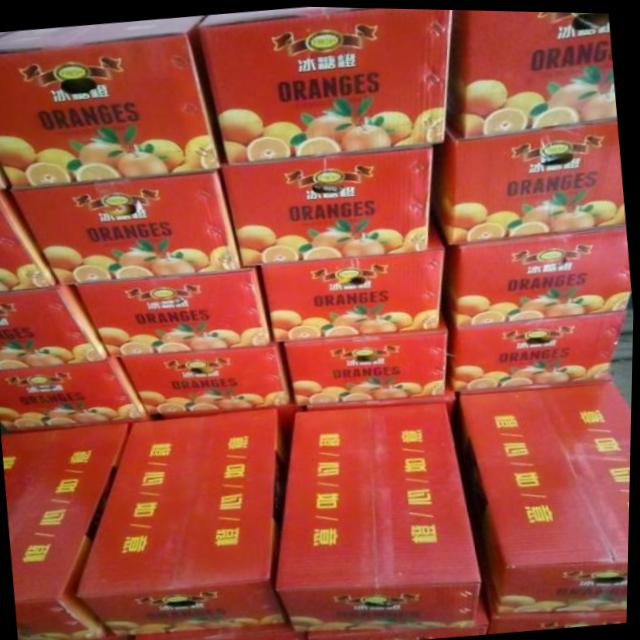box: (78, 407, 289, 636), (278, 400, 484, 630), (453, 377, 633, 611), (199, 5, 451, 164), (0, 14, 224, 186), (3, 422, 132, 640), (14, 168, 243, 284), (223, 143, 434, 265), (432, 114, 627, 242), (262, 211, 443, 341), (449, 8, 617, 134), (441, 221, 633, 325), (76, 265, 272, 357), (451, 309, 625, 390), (287, 317, 448, 404), (121, 342, 293, 413), (0, 358, 150, 430), (0, 284, 109, 370), (311, 595, 490, 640), (164, 397, 303, 451), (0, 189, 57, 291), (308, 380, 456, 412), (488, 599, 630, 631), (137, 623, 310, 640), (0, 162, 14, 190)
